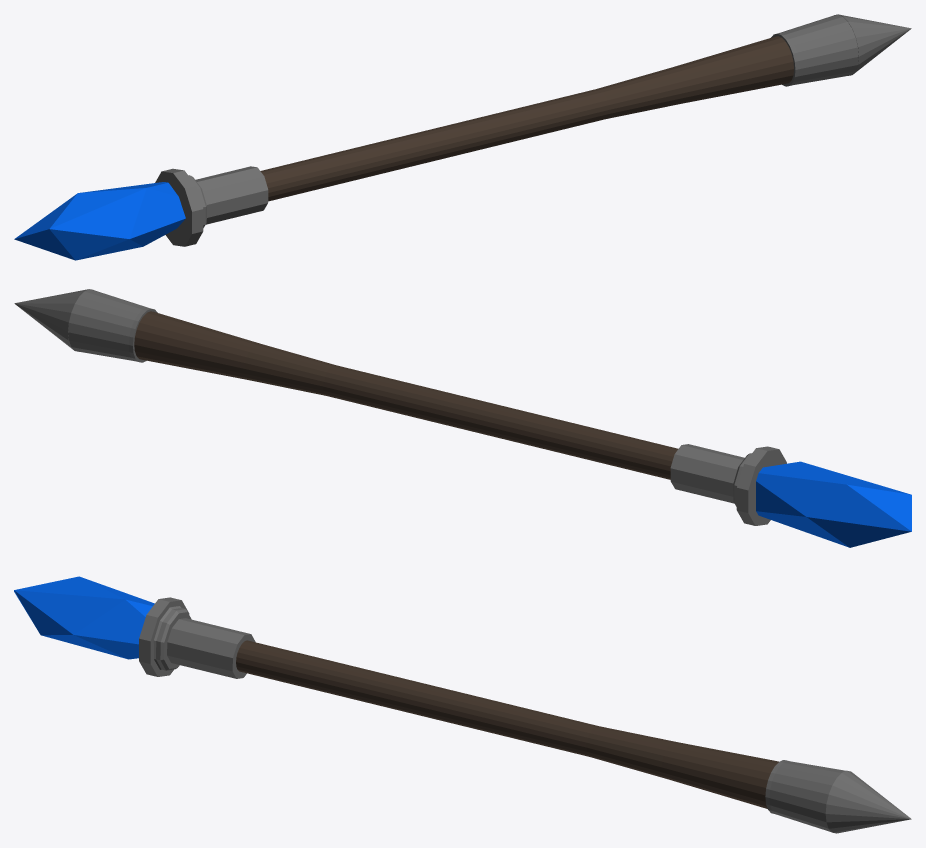
The model's file is staff.fbx.
3 views of the same model, one above another, from view 1: azimuth 30°, elevation 25°; view 2: azimuth 150°, elevation 25°; view 3: azimuth 330°, elevation 25° (orthographic). The views are drawn at different scales.
Parts seen in each view (by area): view 1: polySurface7; view 2: polySurface7; view 3: polySurface7.
Part boxes in pixels (box(x1,y1,x2,y2)): polySurface7: box(14, 14, 911, 260); polySurface7: box(14, 289, 911, 547); polySurface7: box(14, 576, 911, 833).
Size of the model in its own units: 63.25 by 4.9 by 4.9.
